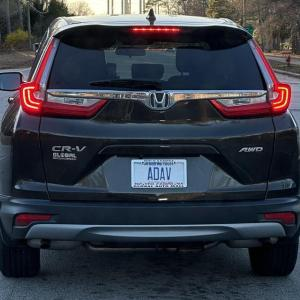Plate: (130, 159, 187, 188)
